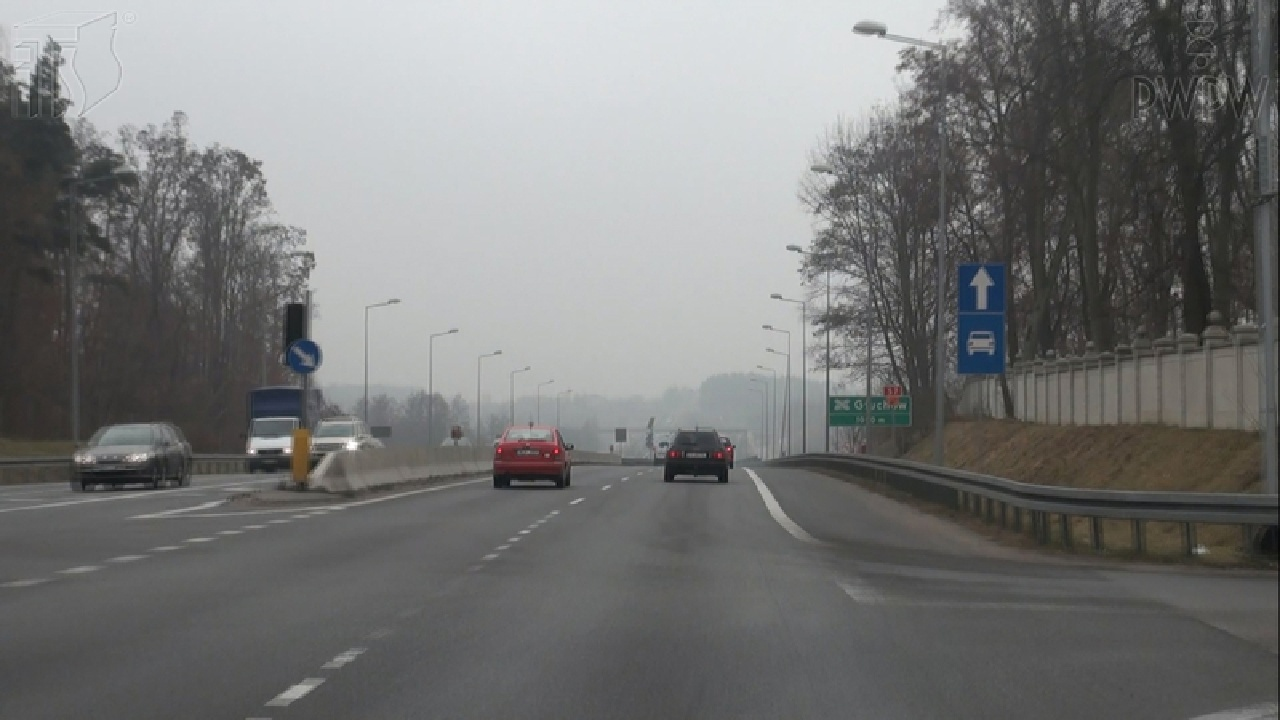D3: (958, 263, 1005, 313)
D7: (958, 314, 1004, 374)
